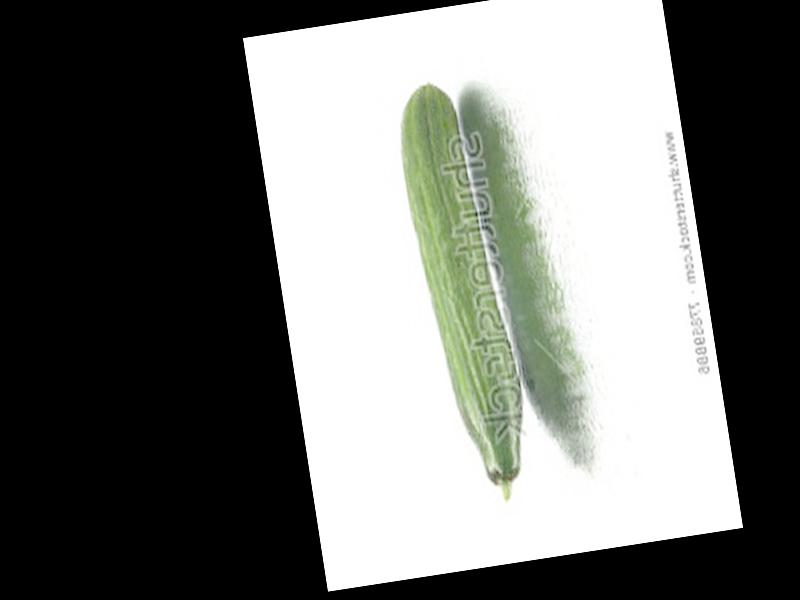Cucumber: (390, 80, 538, 507)
